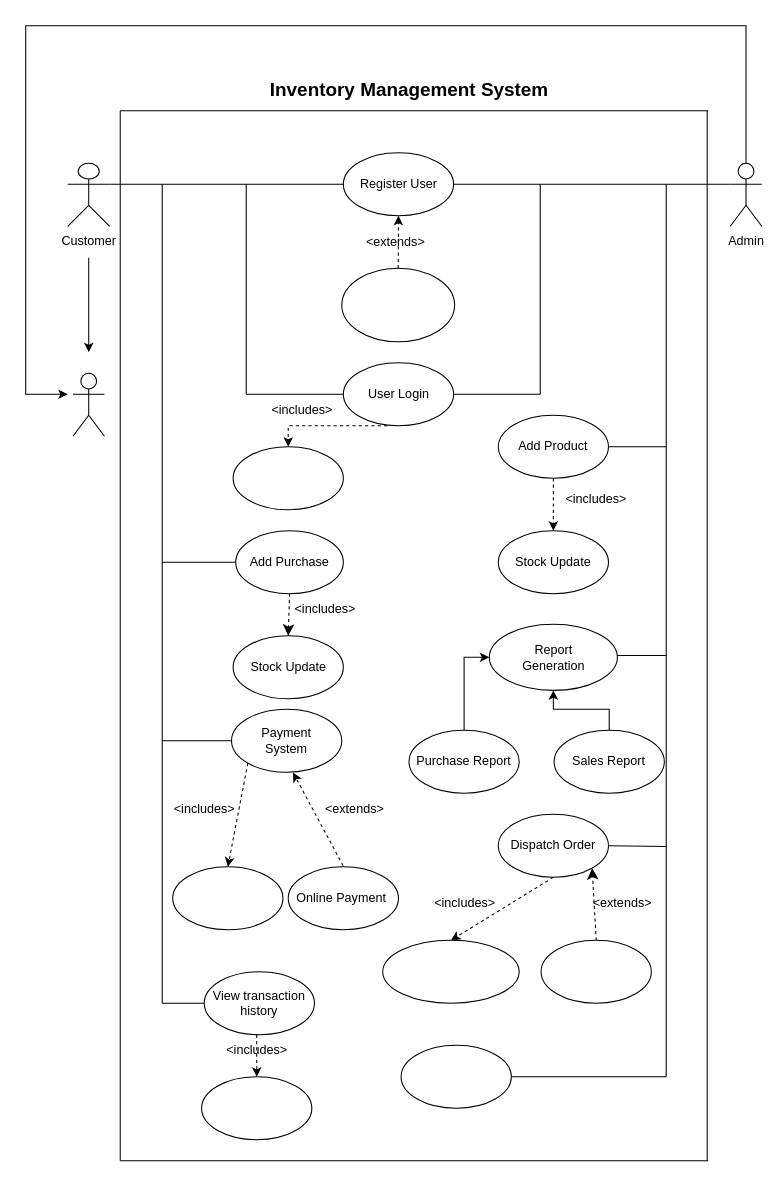
This 782x1180 diagram has some shape labels left out. The shapes that lost their labels are listed below. From the top down, each one's box as (x1, y1, x2, y2) in pixels, then its label:
(341, 267, 455, 342): Edit user information
(72, 372, 104, 436): User
(232, 446, 343, 510): User Validation
(172, 866, 283, 930): Revise Sales Report
(382, 939, 519, 1003): Verify Customer information and purchase details
(540, 939, 651, 1003): View sales order
(400, 1044, 511, 1108): Real-time Stock Update
(201, 1076, 312, 1140): Validate customer info through OTP
